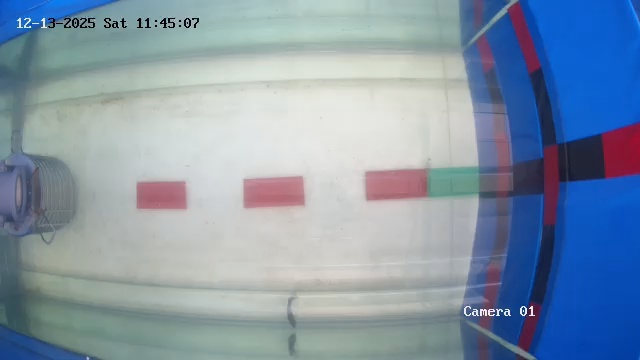fish: (277, 289, 305, 329)
